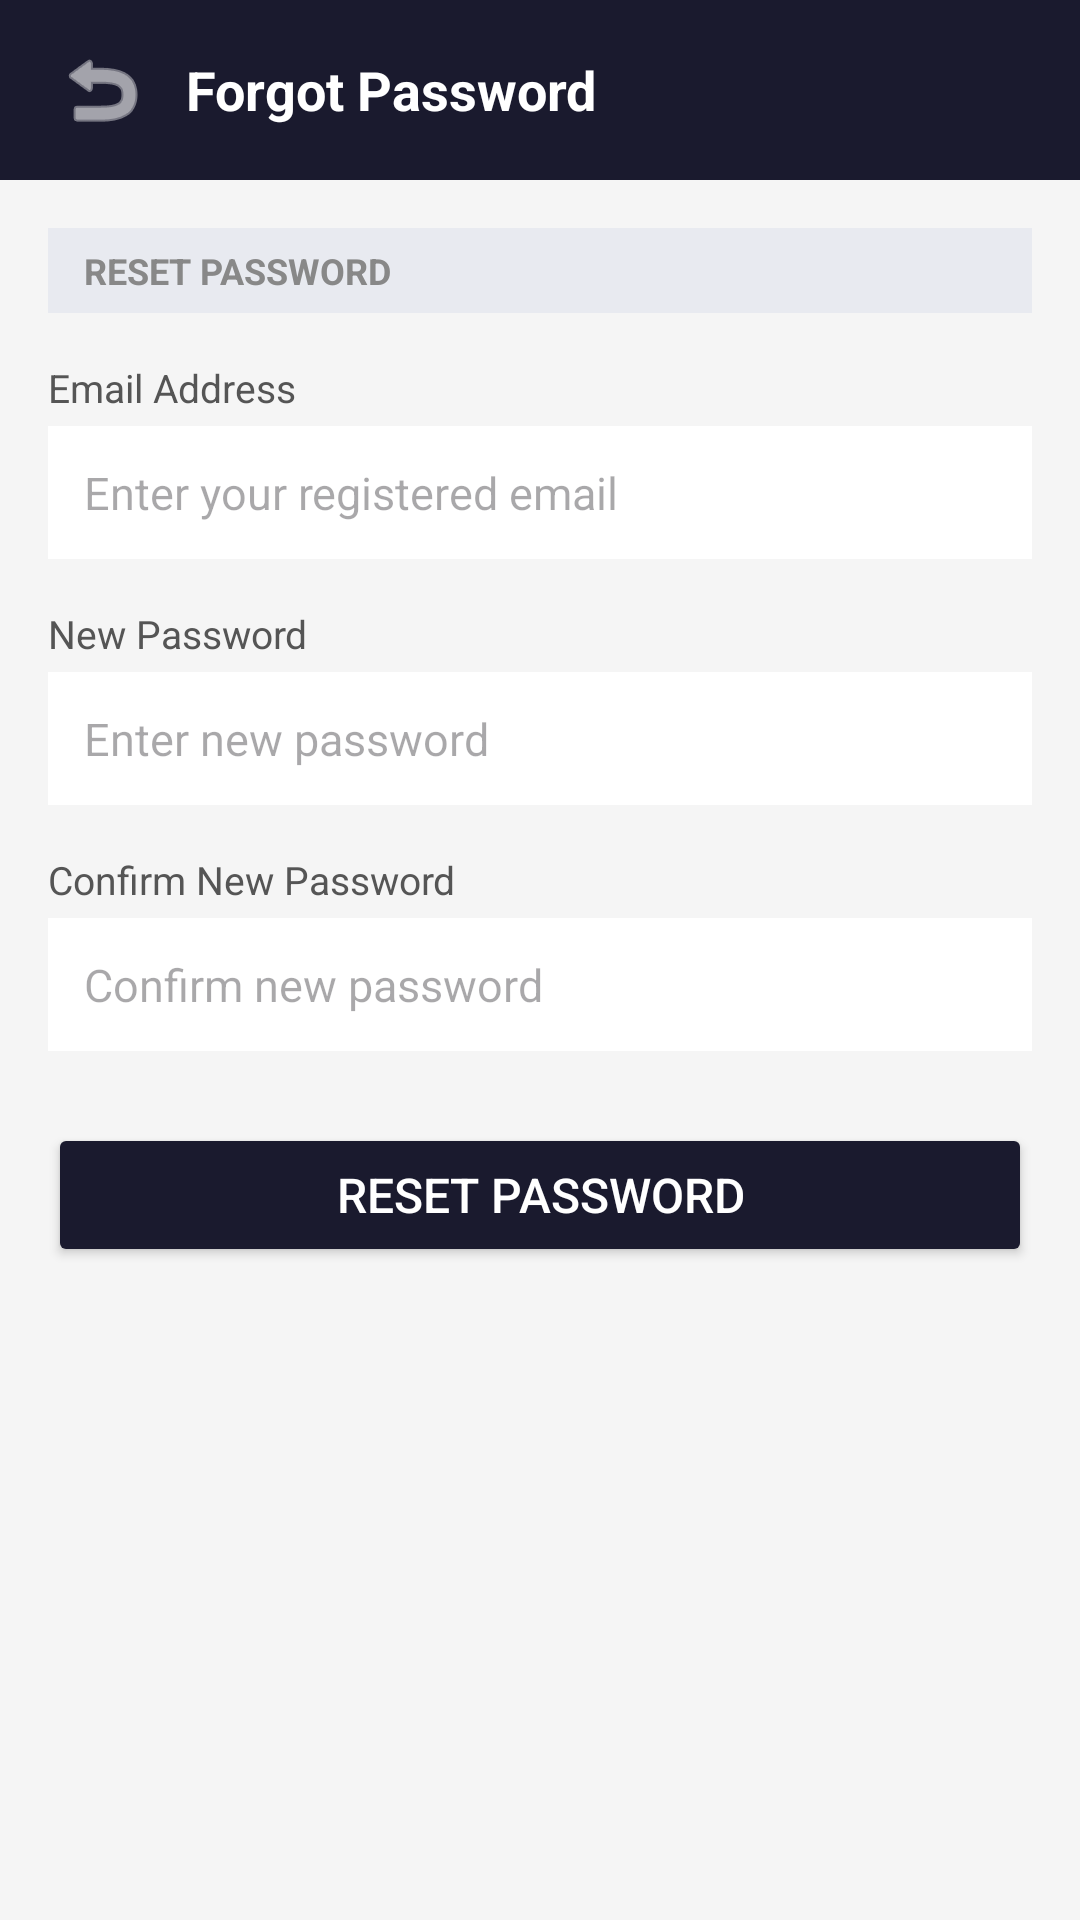

Screen size 1080x1920. Icon name, then its box in pixels as bbox=[x1, y1, x2, y2]:
Back: bbox=[69, 59, 138, 122]
